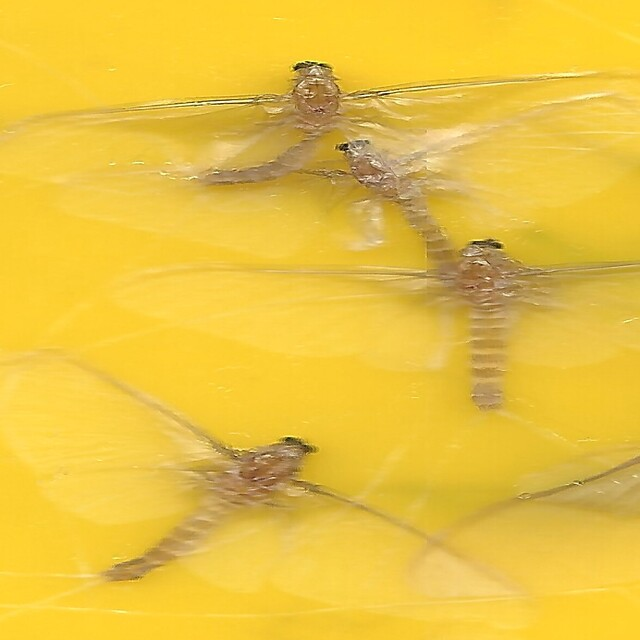Ephemeroptera: (109, 432, 322, 582), (188, 58, 344, 188), (336, 138, 456, 265), (448, 235, 531, 414)
